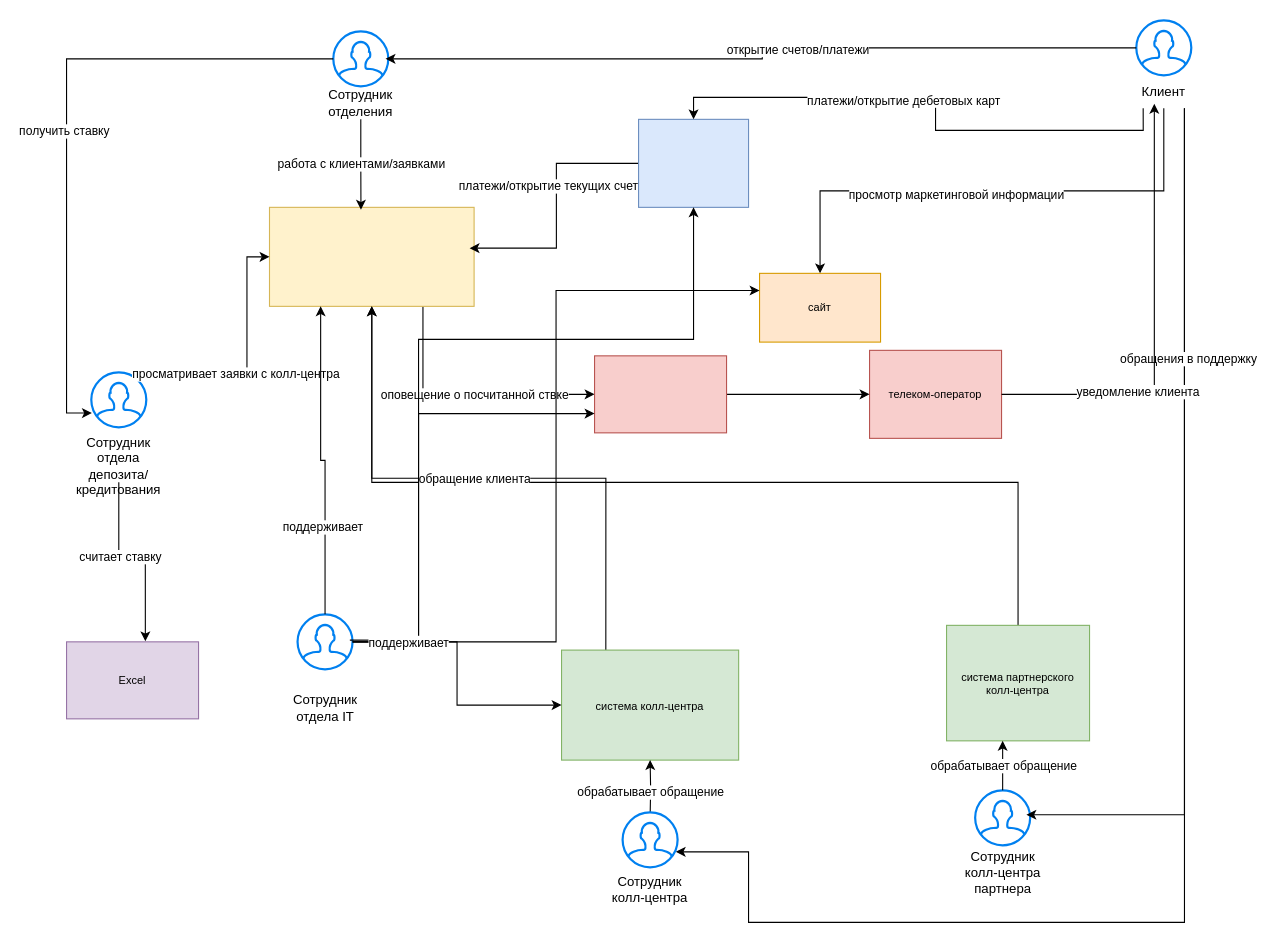
Some shapes in this 1276 by 950 pixel diagram are drawn without their labels. The centre of each missing label's shape, as x and y in pixels:
АБС: (371,256)
интернет-банк: (693,162)
смс-шлюз: (660,394)
